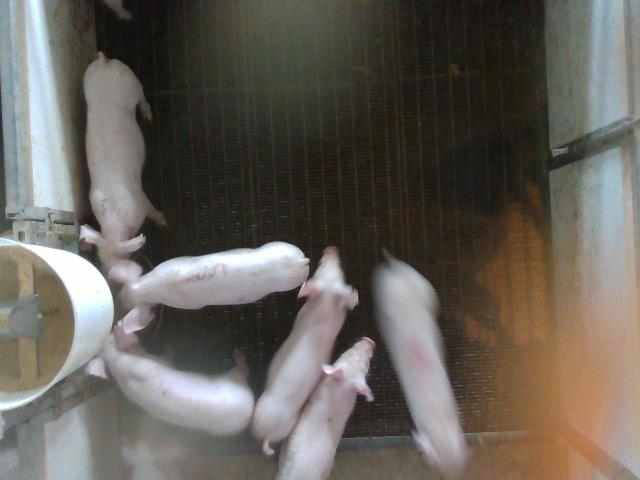pig-3: (108, 241, 309, 335)
